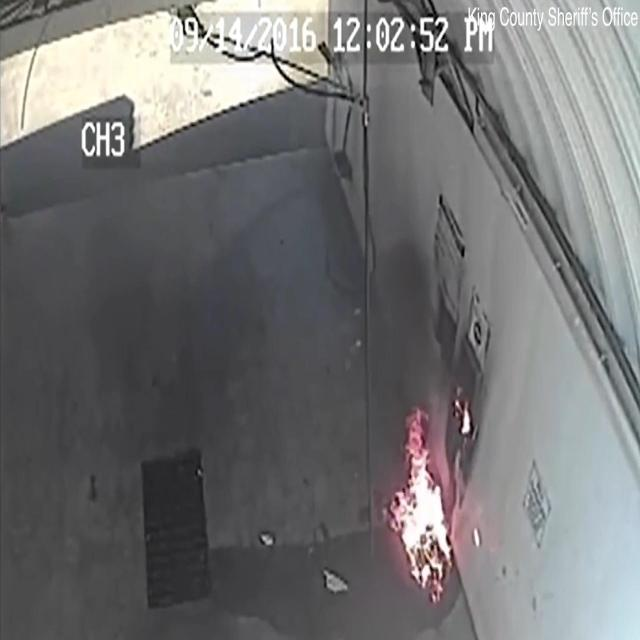fire: (389, 410, 454, 602)
